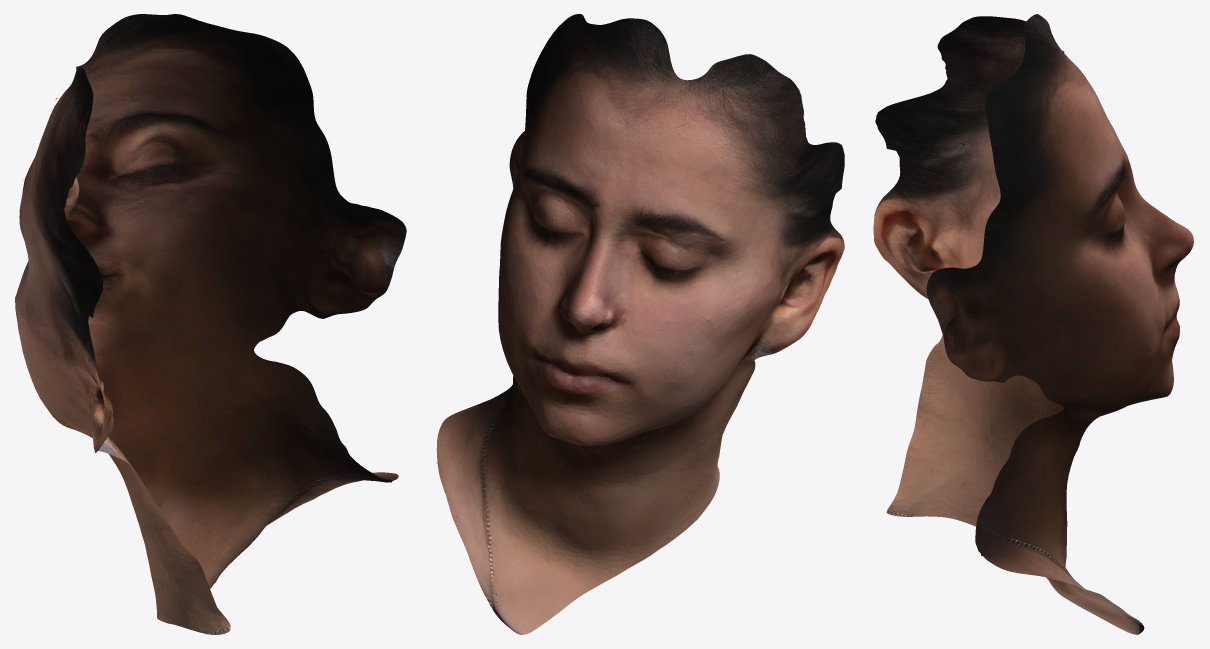
File: BUSTO_2.obj
The picture shows the model from 3 angles, left to right: view 1: azimuth 30°, elevation 25°; view 2: azimuth 150°, elevation 25°; view 3: azimuth 270°, elevation 25°; orthographic projection. The views are drawn at different scales.
Parts seen in each view (by area): view 1: BUSTO_2; view 2: BUSTO_2; view 3: BUSTO_2.
Boxes of the visible parts, x1,y1,x2,y2 form: BUSTO_2: (15, 14, 406, 634); BUSTO_2: (436, 14, 844, 634); BUSTO_2: (873, 14, 1193, 634).
Bounding box in the file's own units: 3.91 × 6.61 × 3.32.
Materials: 1 (1 with a texture image).
